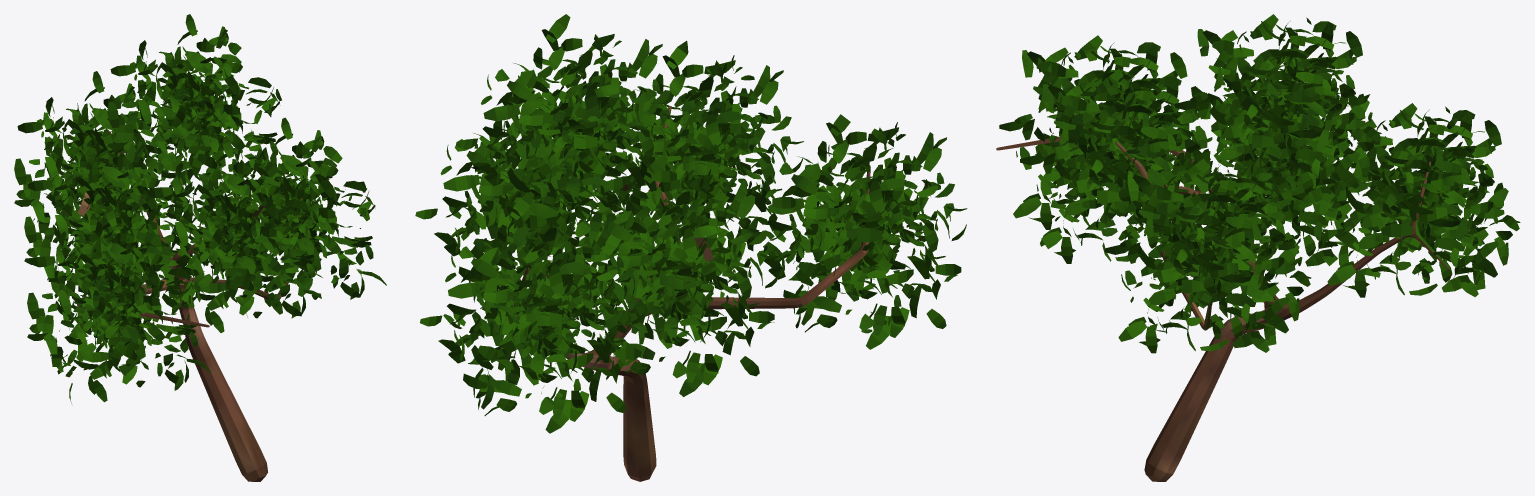
Rendered from lowpoly_tree.glb.
3 views of the same model, side by side, from view 1: azimuth 30°, elevation 25°; view 2: azimuth 150°, elevation 25°; view 3: azimuth 270°, elevation 25° (orthographic). The views are drawn at different scales.
Visible parts, largest first — view 1: Tree; view 2: Tree; view 3: Tree.
Boxes of the visible parts, x1=… form: Tree: x1=14, y1=14, x2=386, y2=481; Tree: x1=415, y1=14, x2=967, y2=481; Tree: x1=996, y1=14, x2=1520, y2=481.
Bounding box in the file's own units: 8.15 × 8.2 × 8.3.
1 material, 1 textured.
